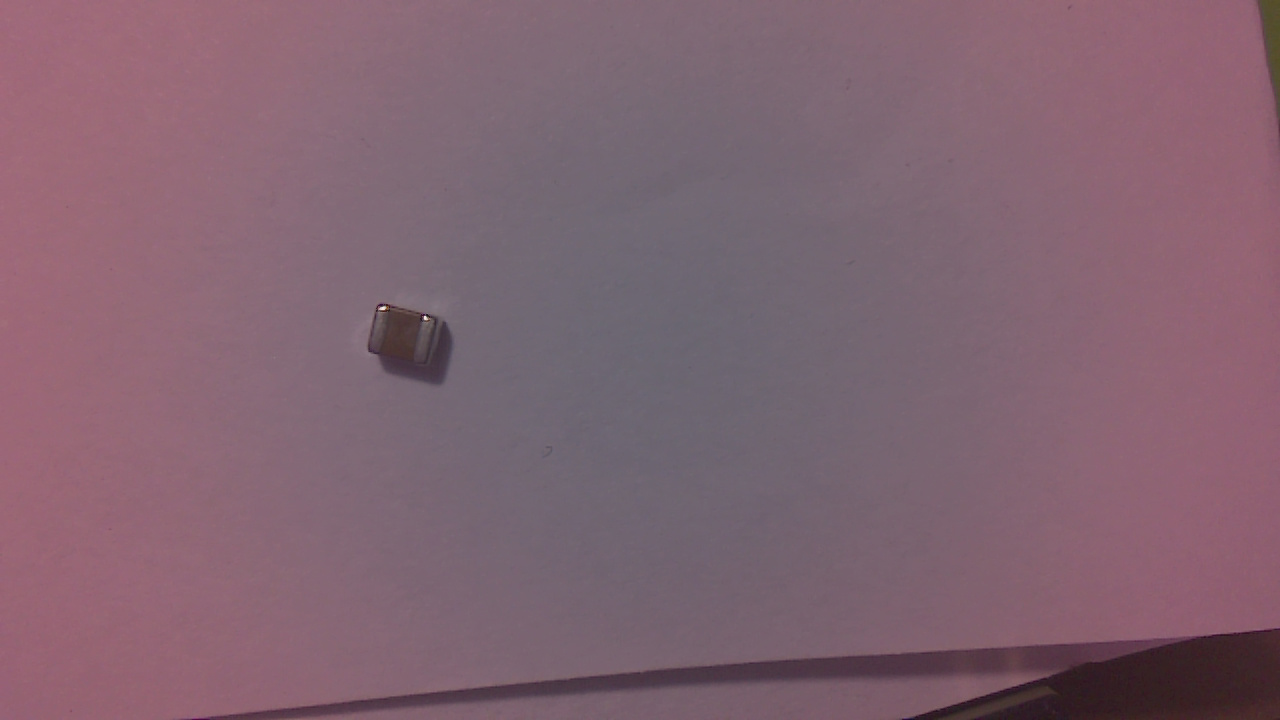Condensator: (372, 306, 444, 380)
